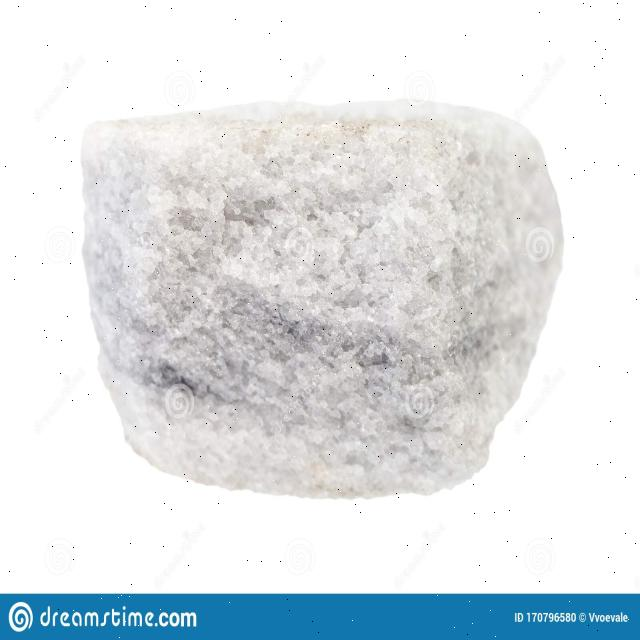Metamorphic: (77, 97, 576, 505)
